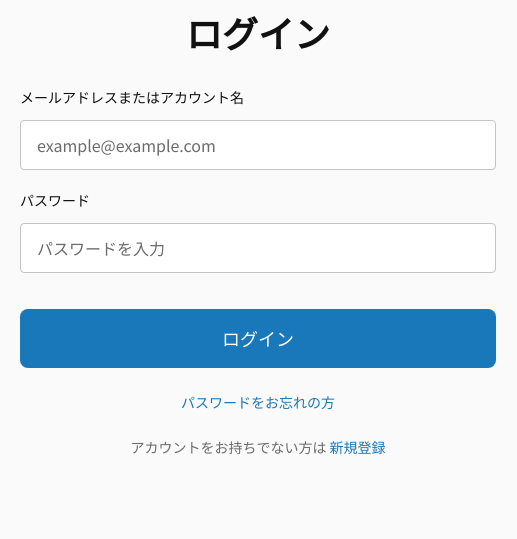
Test case: LoginForm › 第2要素（二段階認証） › rate_limited を受け取るとその内容を表示する
The image size is (517, 539).
In the field labelled "メールアドレスまたはアカウント名": point(258, 145) [20, 120, 496, 170], type "test@example.com"
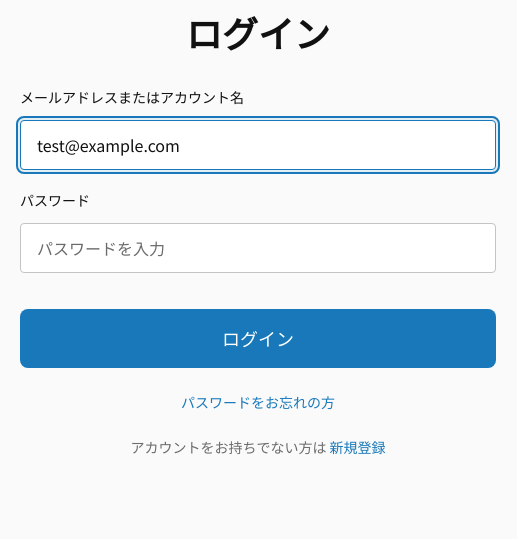
In the password field labelled "パスワード": point(258, 248) [20, 223, 496, 273], type "Password1"
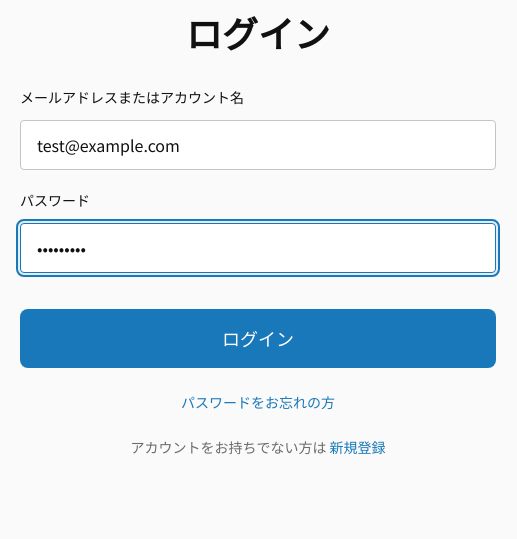
Click the button "ログイン": point(258, 338) [20, 309, 496, 368]
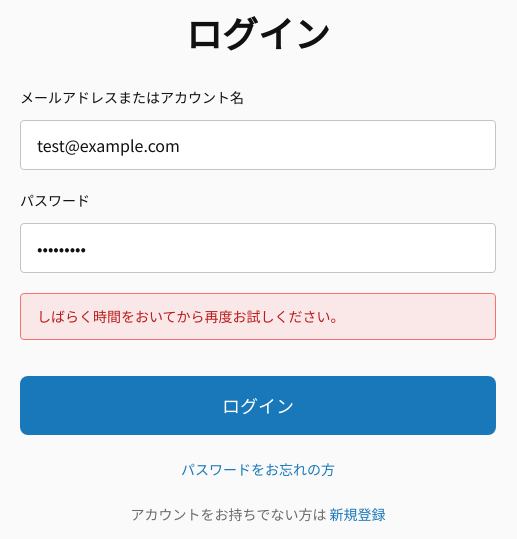
Check: the message reads "しばらく時間をおいてから再度お試しください。", box [37, 306, 345, 326]
